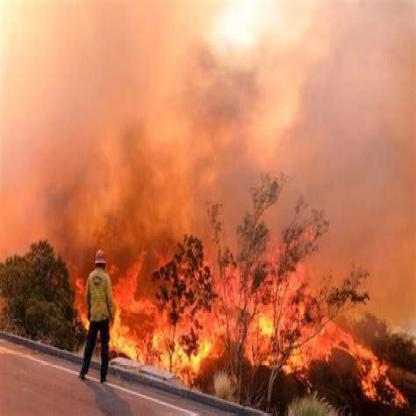fire: (70, 250, 404, 413)
smoke: (14, 29, 401, 182)
